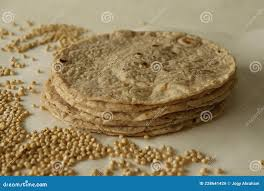rotti: (43, 25, 242, 140)
